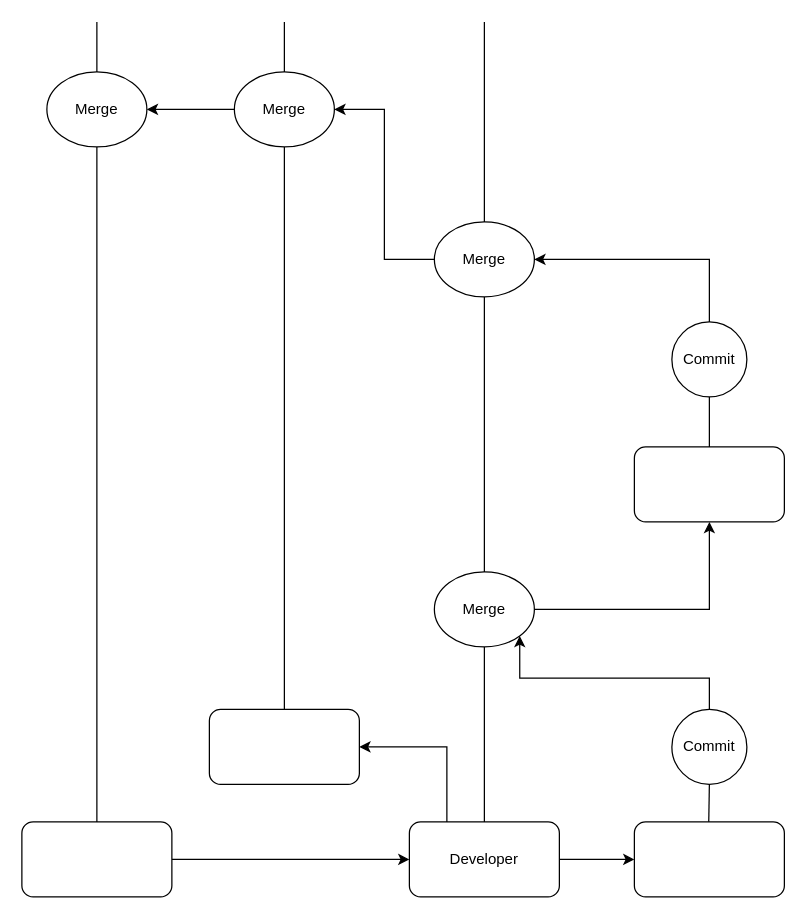
Image size: 806x919. Some labels were removed from this diagram. Each missing label, with the box of its shape:
Feature/Employee: (633, 446, 784, 522)
Feature/Something: (633, 821, 784, 897)
Production: (21, 821, 172, 897)
Test: (208, 708, 359, 784)
